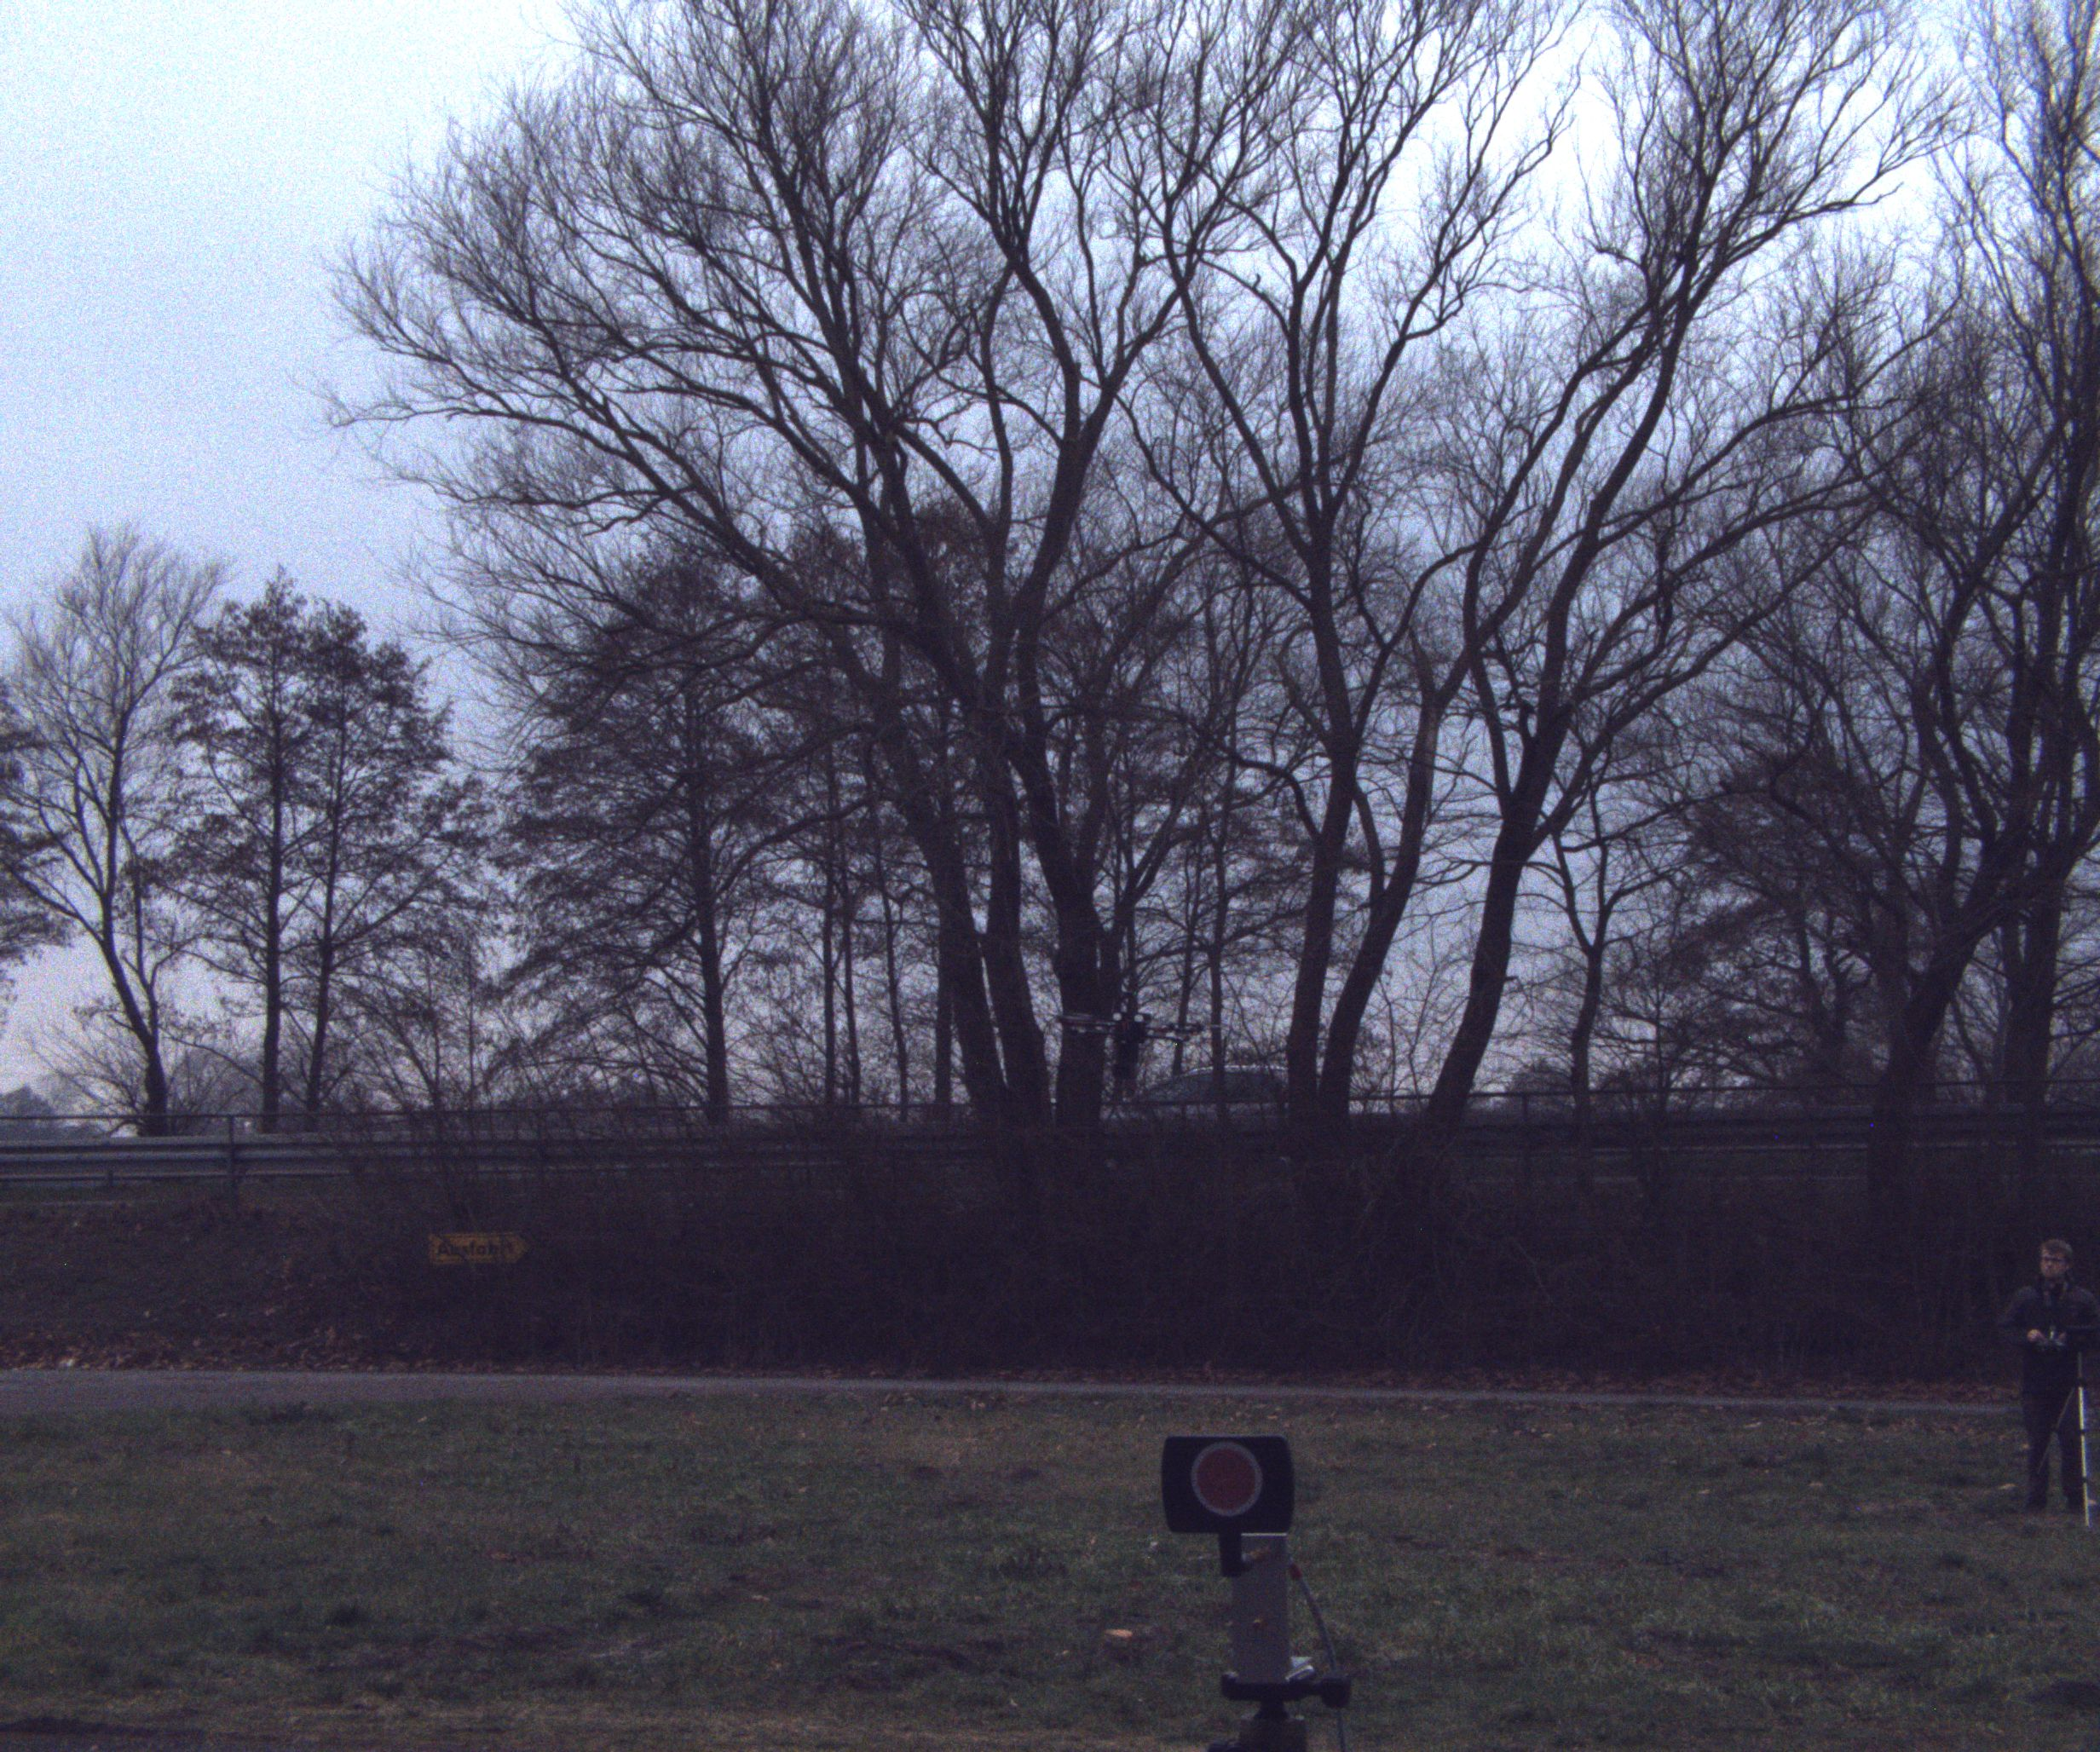Drohne: (1019, 961, 1261, 1135)
